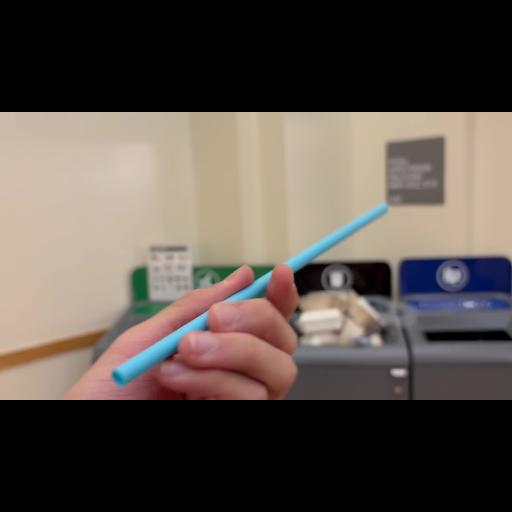straw: (91, 198, 397, 392)
